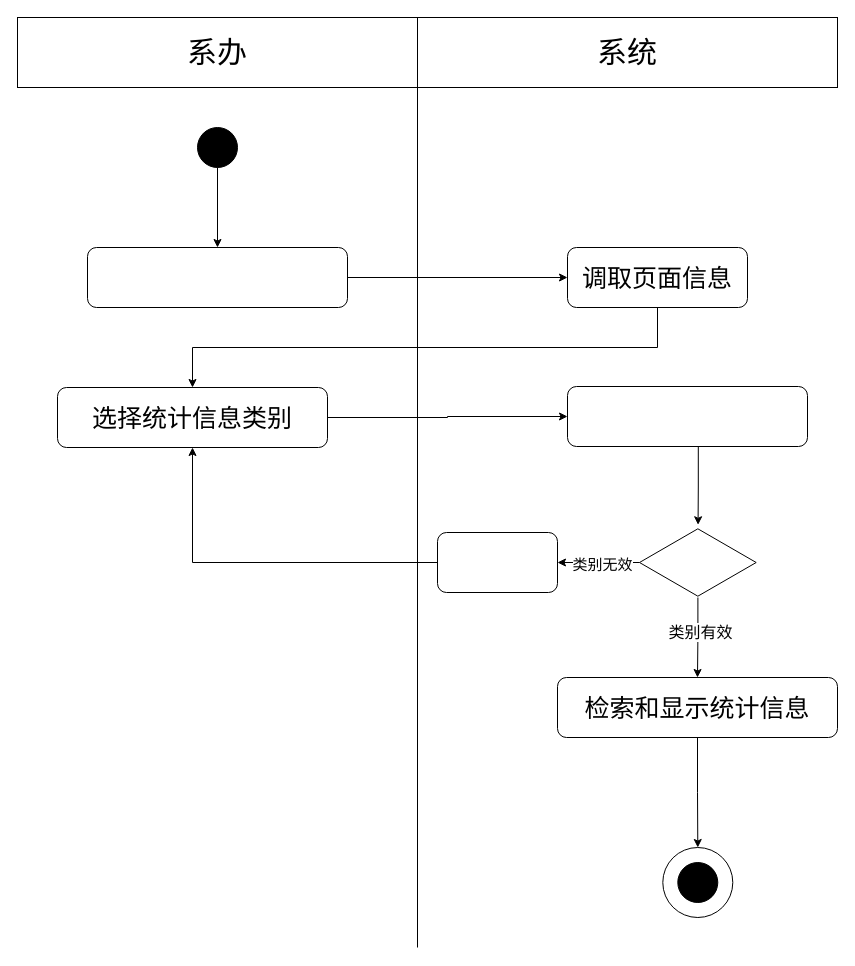
Image size: 855x966. Some labels were removed from this diagram. Each missing label, with the centre of its shape:
"检索统计信息类别" goes at point 687,416.
"点击查看数据统计" goes at point 217,277.
"系统提示" goes at point 497,562.
